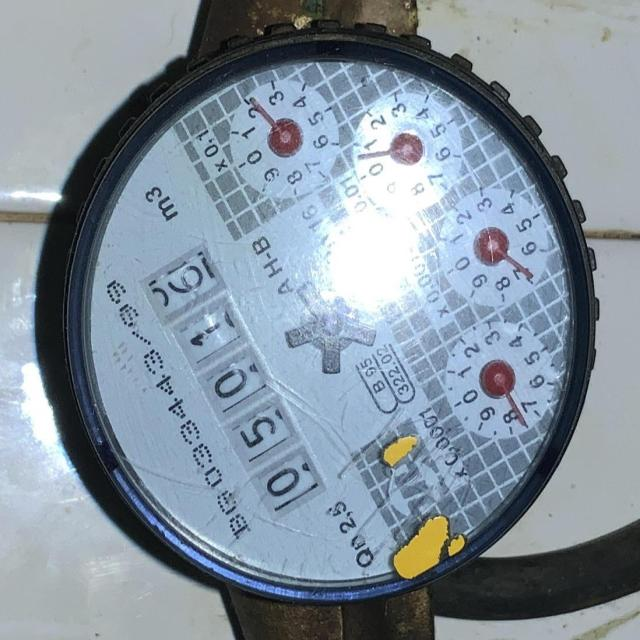gaz_meter: (79, 61, 580, 586)
indication: (141, 242, 326, 522)
